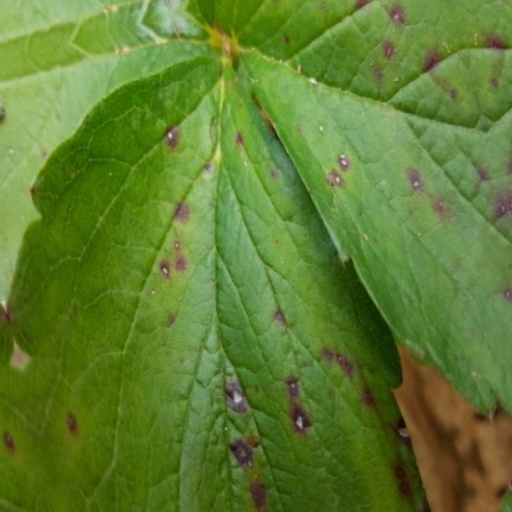Leaf Spot: (0, 49, 368, 511), (280, 0, 511, 511)
